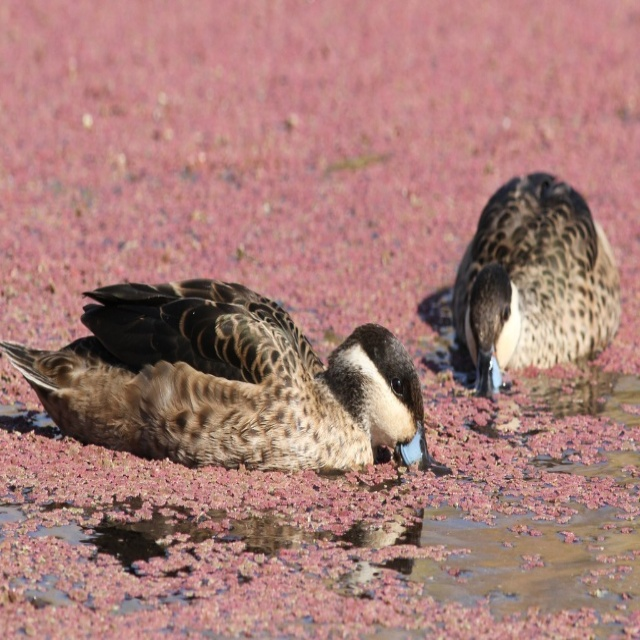Duck: (0, 256, 464, 477), (420, 165, 628, 412)
